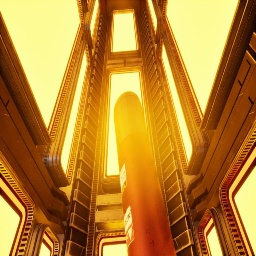NitrogenTank ,: (113, 91, 177, 256)
